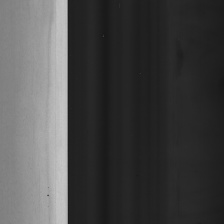inclusion: (46, 185, 51, 207)
